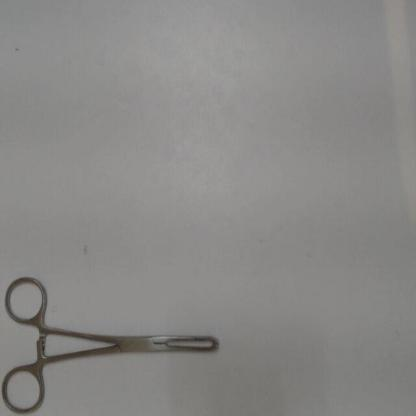Allis Tissue Forceps: (0, 265, 226, 415)
